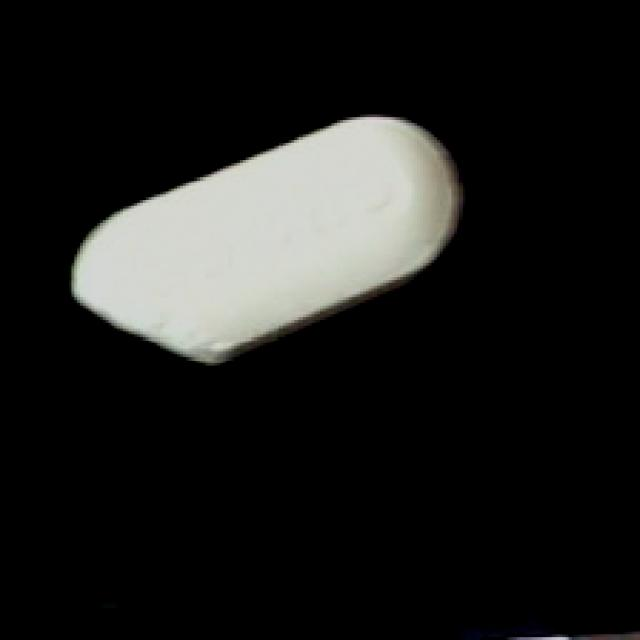defected: (66, 108, 471, 372)
